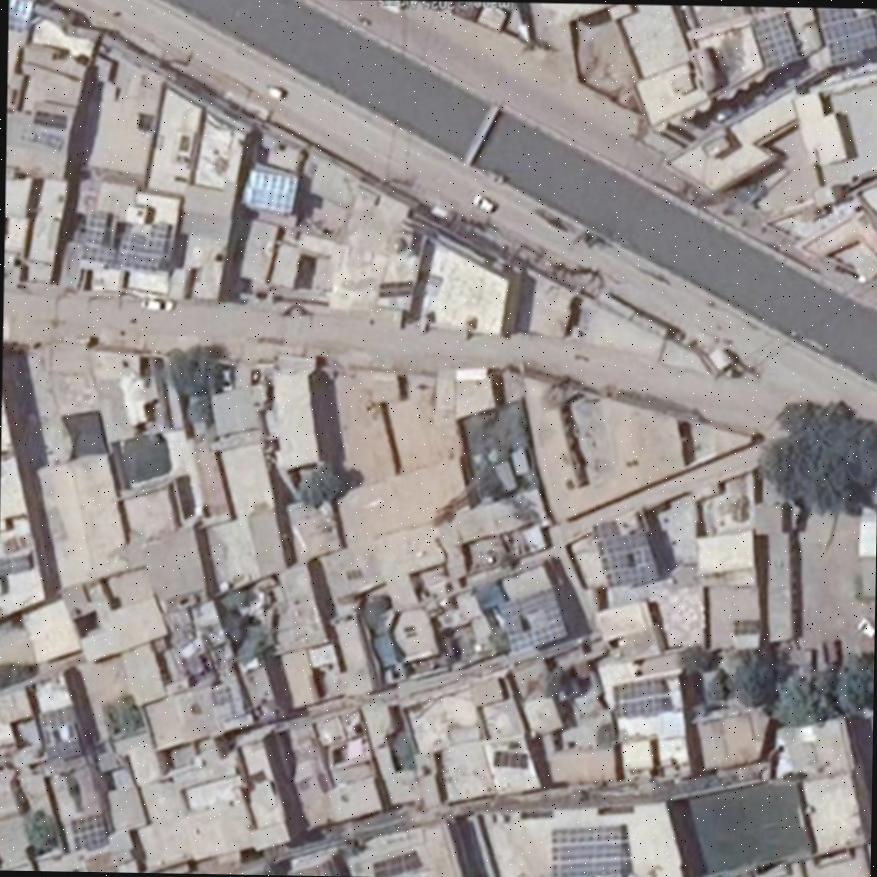Solarpanel: (82, 207, 166, 267), (498, 590, 567, 648), (552, 826, 623, 877), (815, 9, 877, 64), (598, 532, 657, 586), (241, 169, 295, 212), (752, 12, 795, 65), (614, 682, 663, 718), (71, 814, 103, 847)
